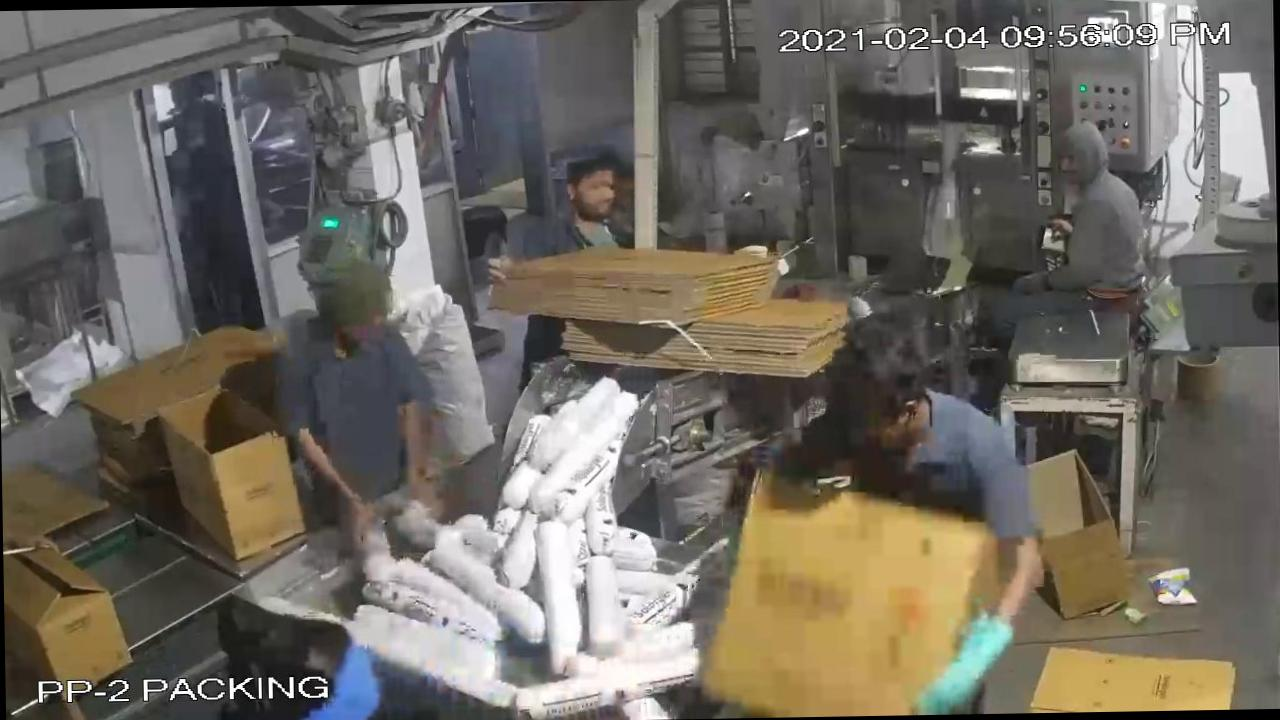Gloves: (895, 584, 1028, 716)
No-gloves: (278, 406, 392, 562), (371, 380, 458, 556)
